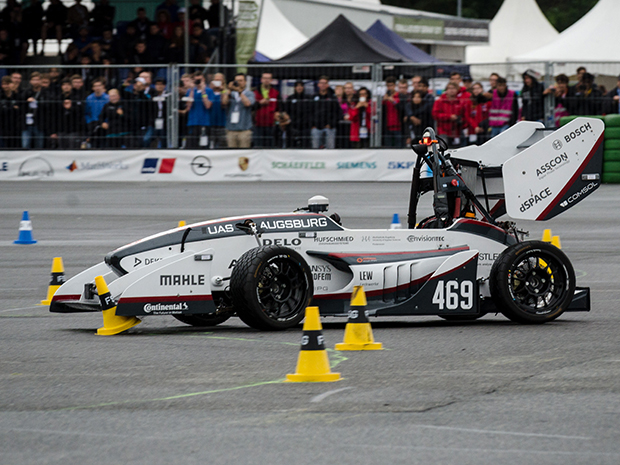cone: (278, 302, 349, 384), (332, 284, 385, 354), (81, 275, 143, 334), (41, 254, 78, 307), (11, 207, 41, 247)
